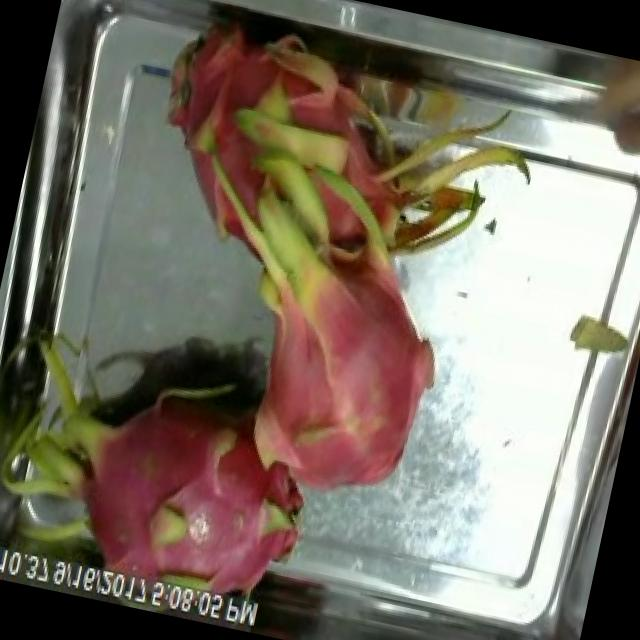Fruit: (576, 52, 640, 183)
